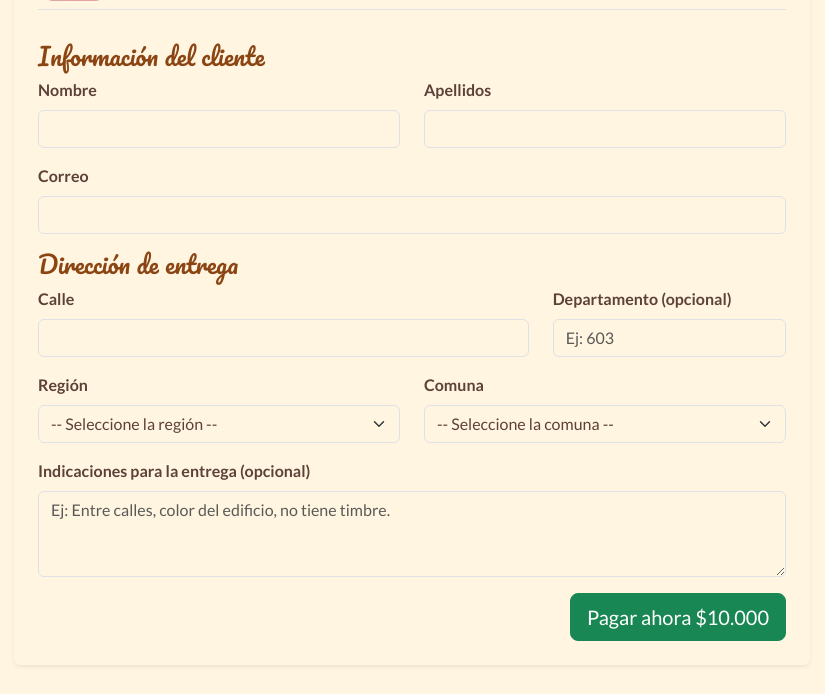
Test: <Checkout /> › al pagar con el formulario vacío muestra 6 errores y no confirma la compra
(page scrolled)
Step 1. Click the button "Pagar ahora $10.000" → point(678, 617), box top-left (570, 593), bottom-right (786, 641)
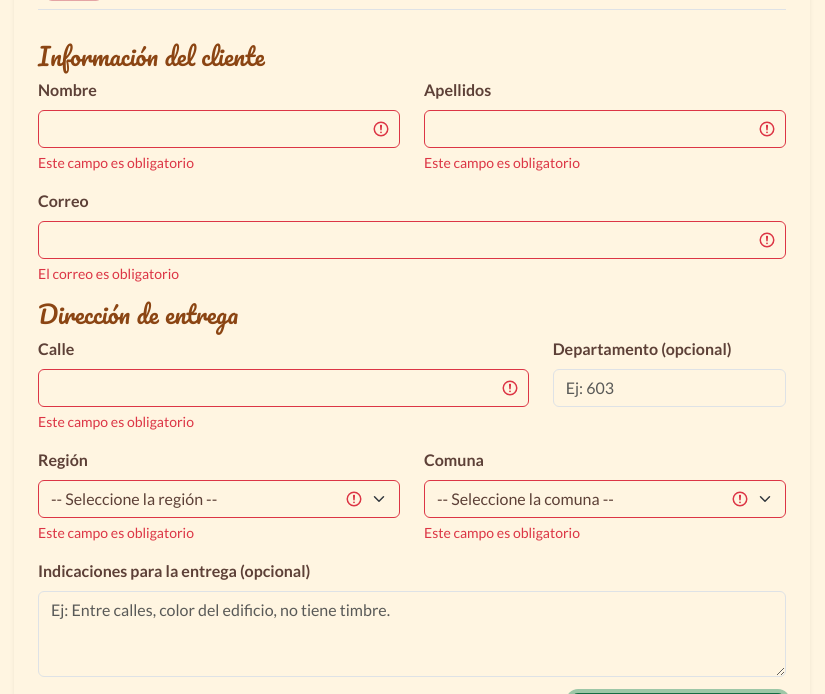
Result: the number of messages is 6 at top-left (38, 154), bottom-right (194, 171); top-left (424, 154), bottom-right (580, 171); top-left (38, 265), bottom-right (179, 282); top-left (38, 413), bottom-right (194, 430); top-left (38, 524), bottom-right (194, 541); top-left (424, 524), bottom-right (580, 541)
